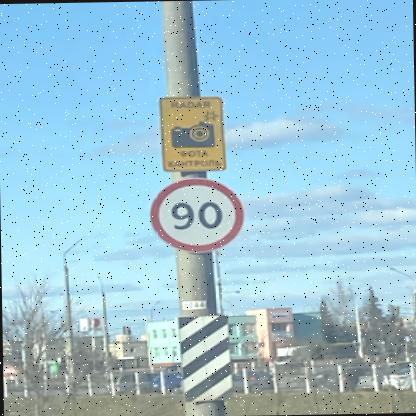speedlimit: (146, 176, 242, 251)
